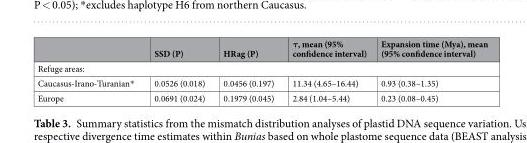table: (36, 37, 487, 103)
table column: (373, 37, 487, 103), (36, 37, 143, 103), (282, 37, 373, 103), (143, 37, 213, 103), (213, 37, 282, 103)
table column header: (36, 37, 487, 60)
table projected row header: (36, 60, 487, 75)
table row: (36, 37, 487, 60), (36, 60, 487, 75), (36, 75, 487, 90), (36, 90, 487, 103)
